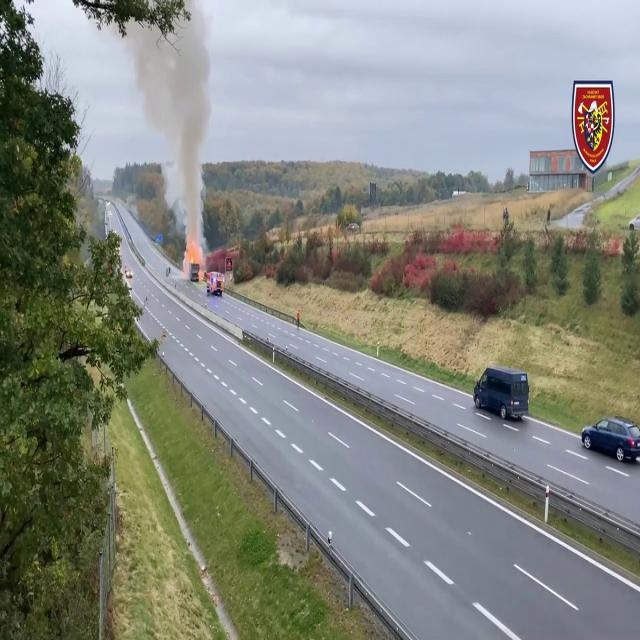Fire: (184, 236, 204, 282)
Smoke: (126, 3, 219, 240)
